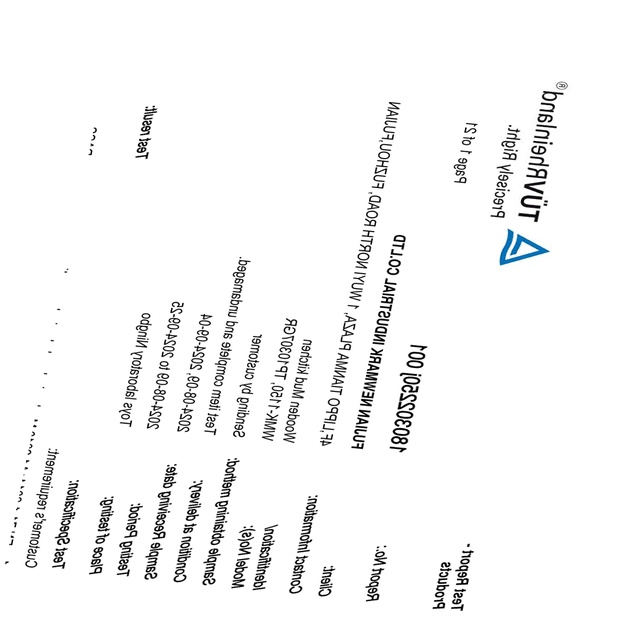tuv_rheinland: (497, 77, 573, 272)
